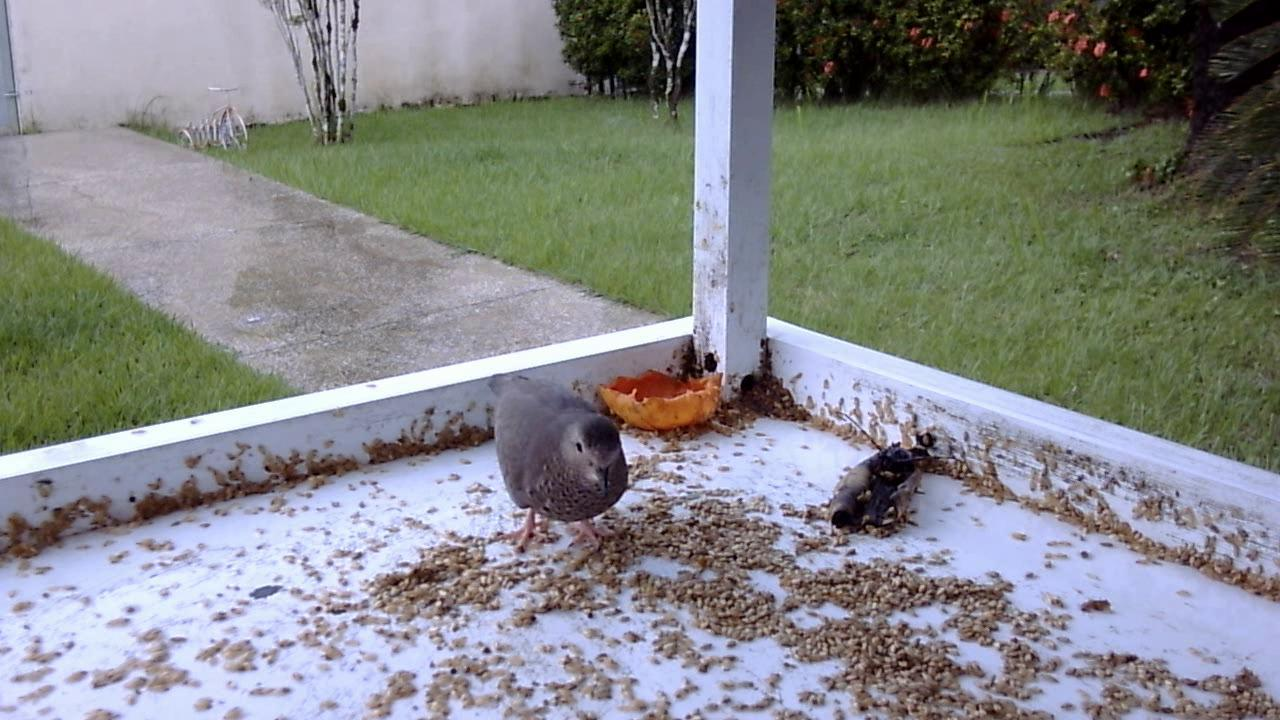rolinha: (482, 365, 635, 565)
